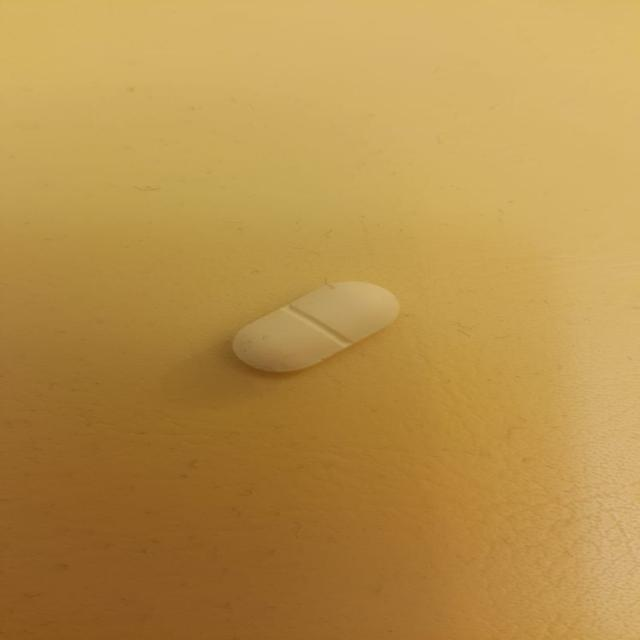pills: (216, 266, 410, 384)
